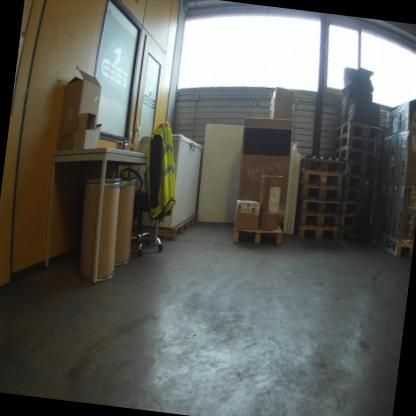pallet: (130, 206, 199, 248), (226, 216, 285, 253), (333, 118, 383, 151), (368, 229, 414, 264), (295, 207, 343, 235), (332, 130, 380, 156), (292, 222, 340, 245), (297, 181, 342, 205), (296, 194, 340, 217), (299, 153, 343, 176), (332, 144, 382, 162), (298, 171, 344, 190), (341, 159, 379, 179), (335, 223, 372, 243), (338, 171, 379, 189), (339, 186, 377, 205), (342, 199, 376, 217), (340, 212, 372, 230)
pallet_truck: (341, 121, 387, 251)
